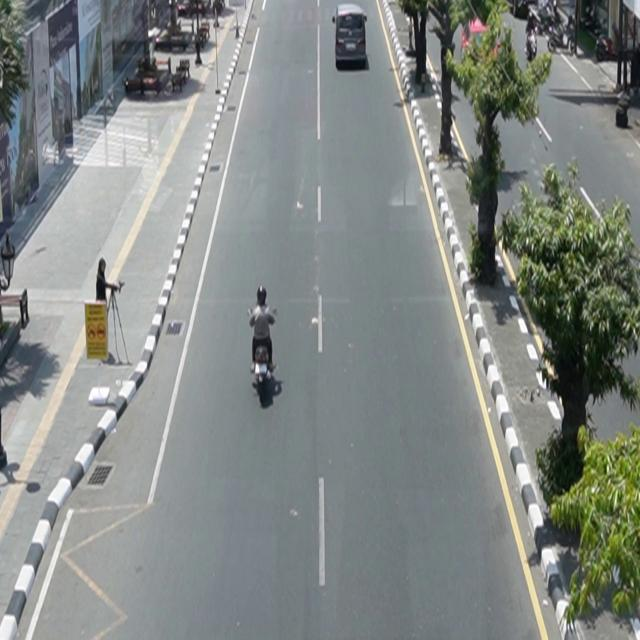car: (333, 4, 368, 69), (462, 17, 502, 63)
